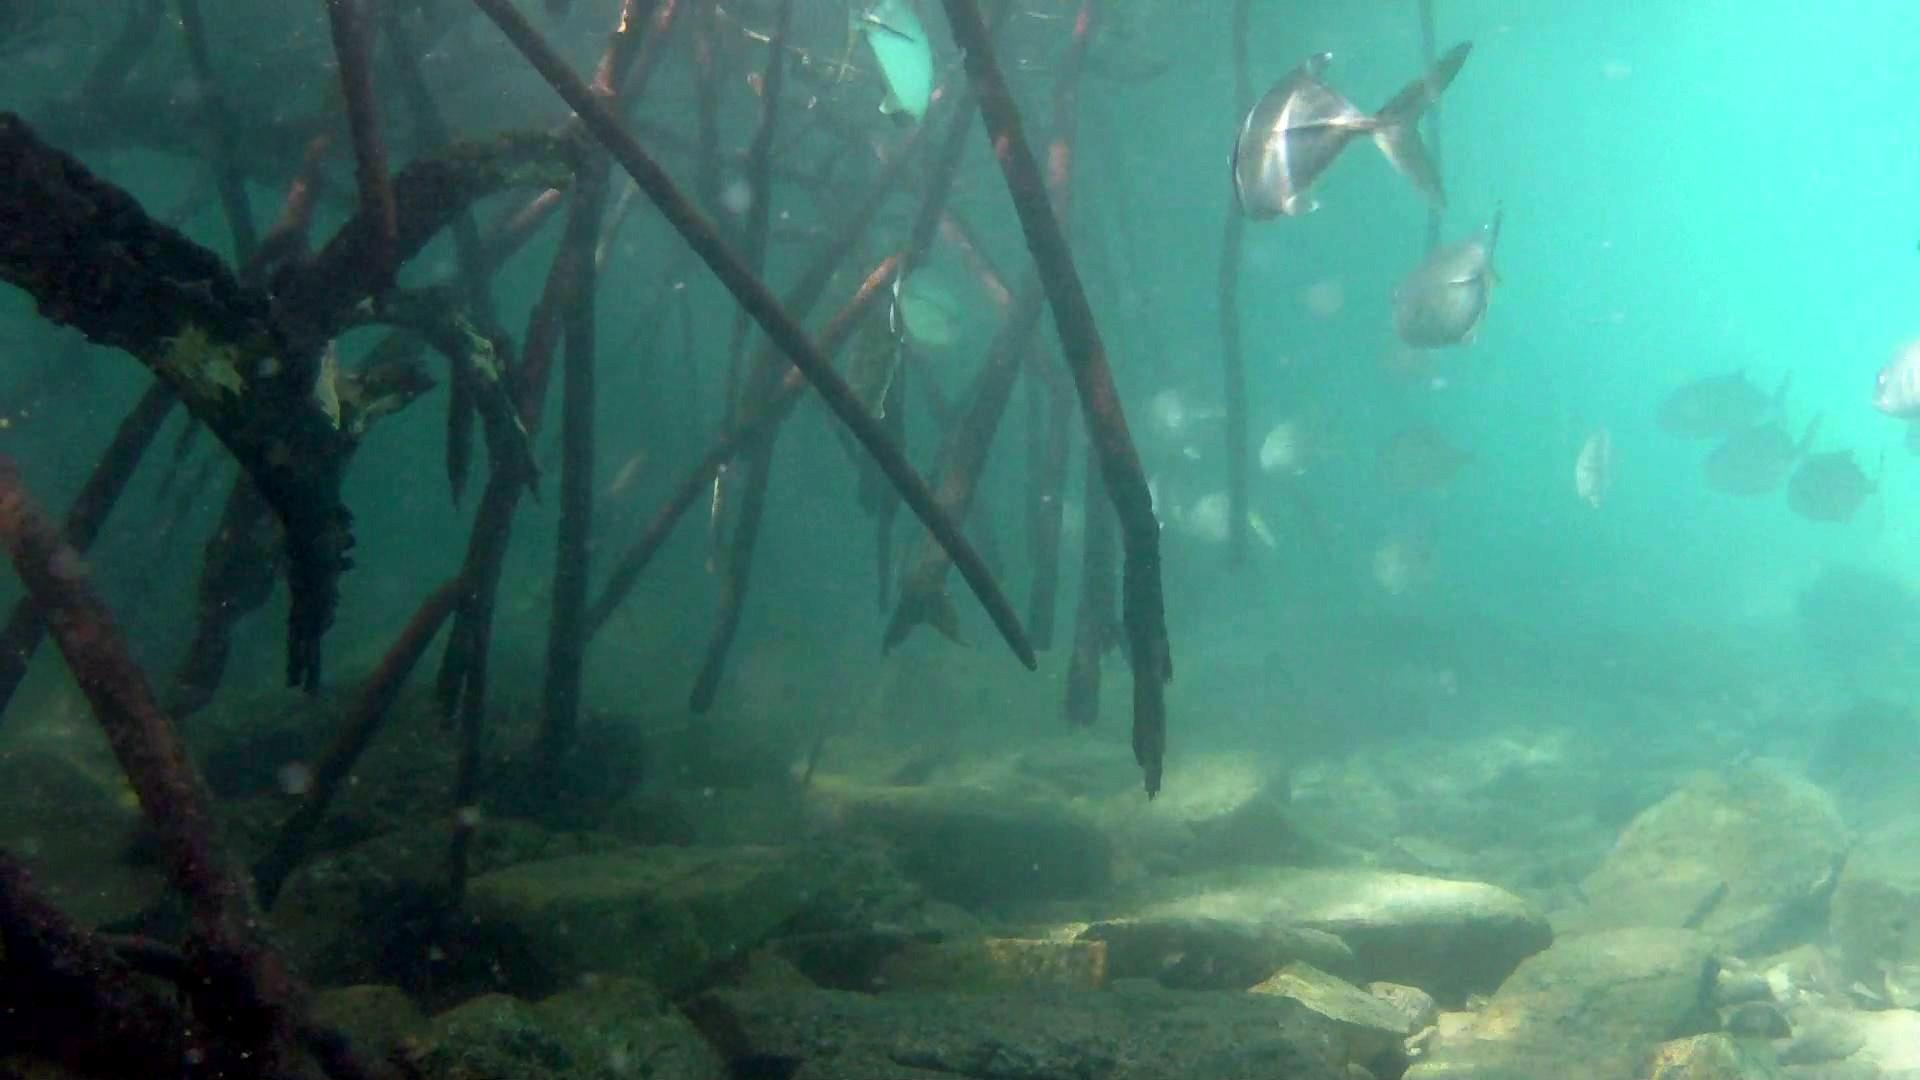caranx: (1228, 35, 1478, 227), (808, 0, 981, 138)
